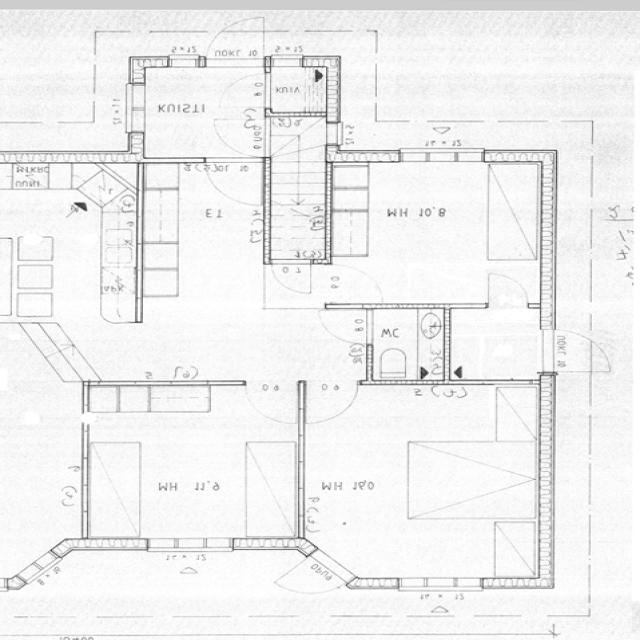door: (201, 8, 277, 72), (268, 553, 356, 605), (222, 382, 298, 425), (299, 379, 361, 429), (314, 301, 377, 350), (546, 333, 616, 377), (207, 163, 273, 208), (214, 111, 277, 155), (476, 269, 533, 313), (268, 249, 320, 296)
window: (7, 534, 75, 595), (393, 138, 493, 166), (120, 76, 158, 142), (140, 532, 238, 557), (396, 572, 489, 596), (157, 52, 209, 74), (261, 55, 313, 69)
